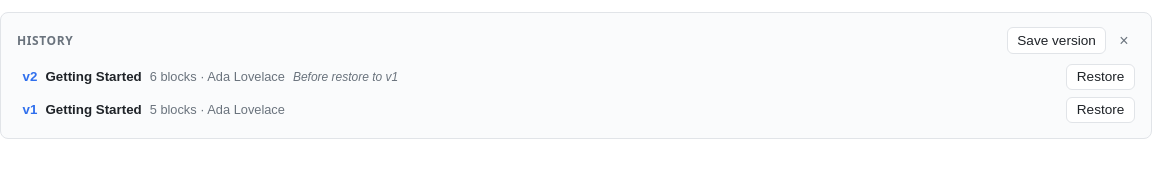
Test: HistoryPanel › lists versions and shows a diff summary when a version is expanded
Expected: the text "v2" is shown, [23,69,37,84]
Click the text "v1" at x=30, y=110, box [23,102,37,117]
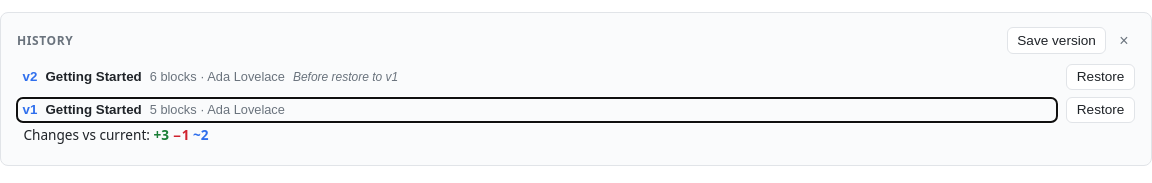
Now the text "+3" is shown, box [154,125,169,144]
Now the text "−1" is shown, box [173,125,190,144]
Now the text "~2" is shown, box [193,125,209,144]
